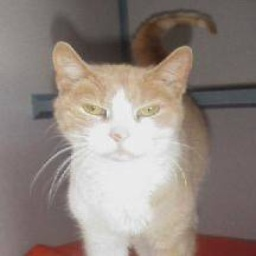cat: (53, 10, 214, 256)
